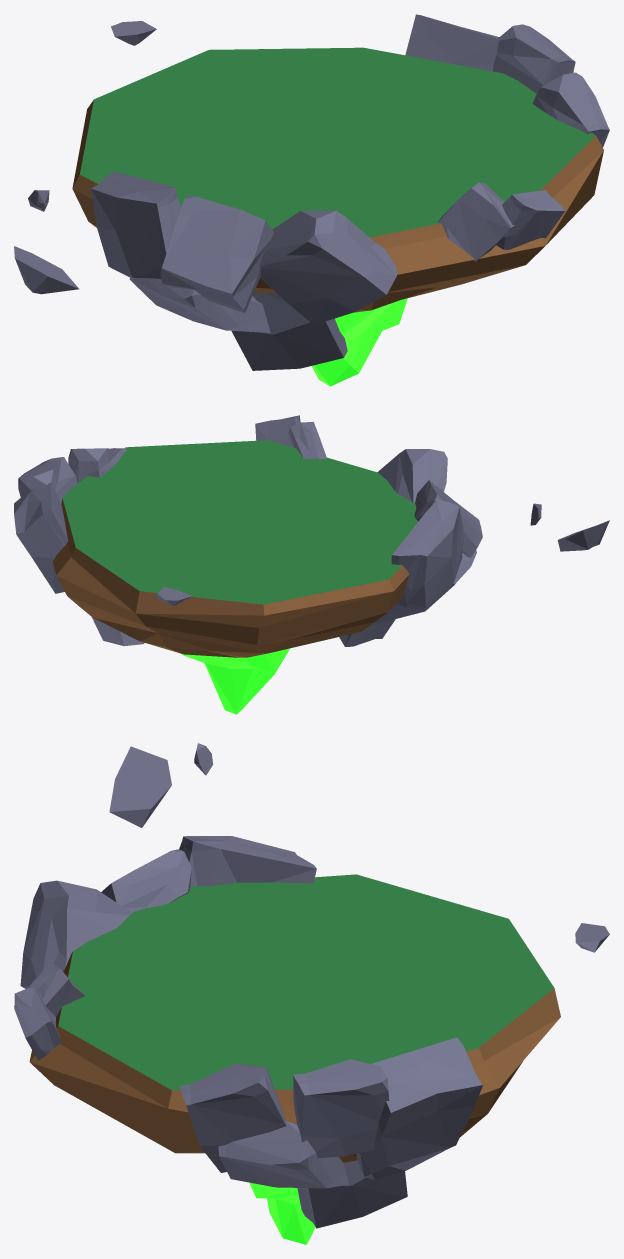
File: Garden Island.fbx
3 views of the same model, one above another, from view 1: azimuth 30°, elevation 25°; view 2: azimuth 150°, elevation 25°; view 3: azimuth 270°, elevation 25° (orthographic). The views are drawn at different scales.
Visible parts, largest first — view 1: Garden Island; view 2: Garden Island; view 3: Garden Island.
Part boxes in pixels (left/top/right/bottom): Garden Island: left=14, top=14, right=609, bottom=386; Garden Island: left=14, top=415, right=609, bottom=714; Garden Island: left=14, top=743, right=609, bottom=1244.
Bounding box in the file's own units: 35.29 × 16.31 × 27.26.
